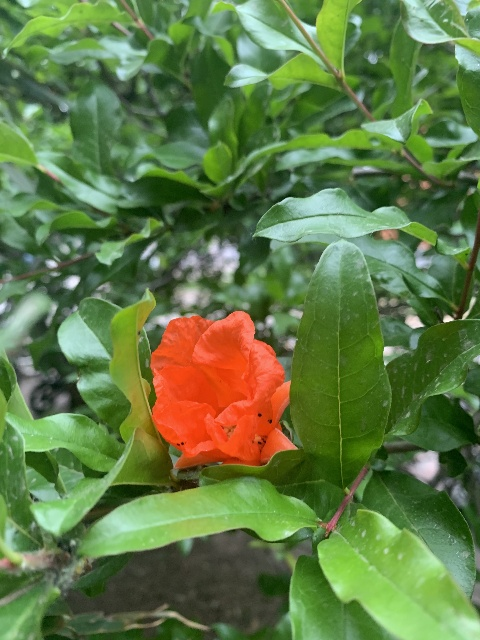flower: (150, 309, 297, 470)
